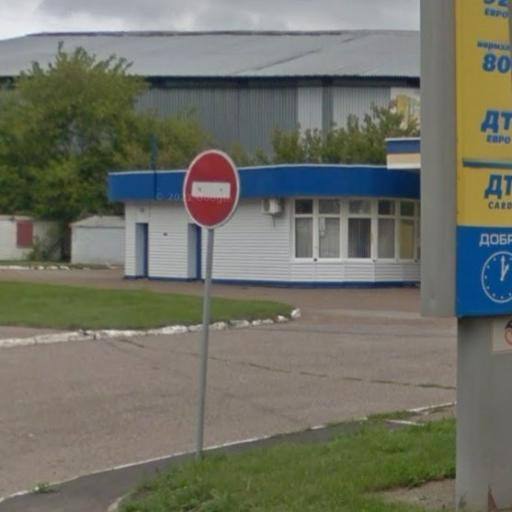traffic_sign: (178, 143, 249, 236)
